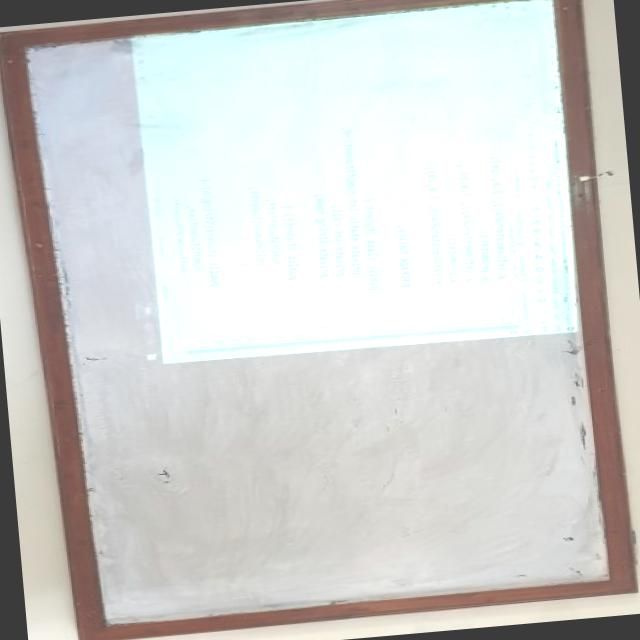Slide: (110, 0, 586, 368)
White-board: (10, 0, 625, 633)
